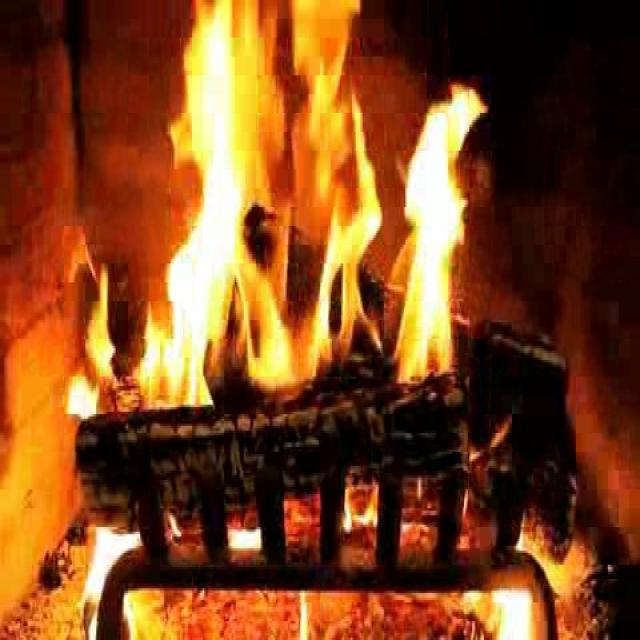fire: (144, 17, 465, 401)
